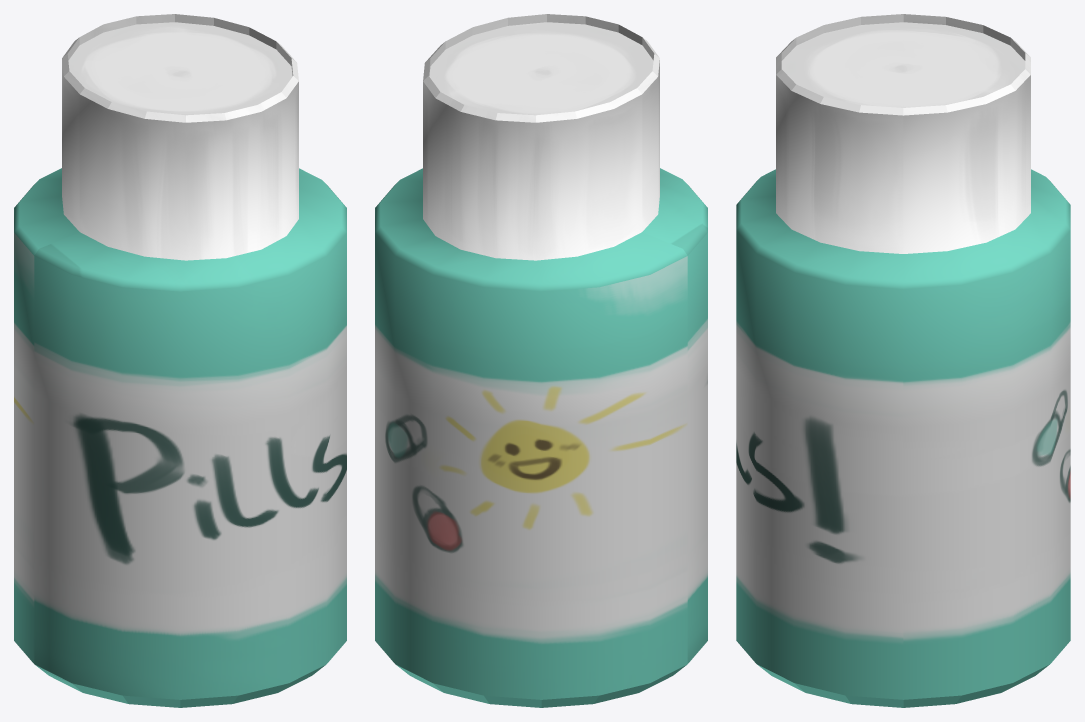
File: enemyPill.FBX
The picture shows the model from 3 angles, left to right: view 1: azimuth 30°, elevation 25°; view 2: azimuth 150°, elevation 25°; view 3: azimuth 270°, elevation 25°; orthographic projection.
Parts seen in each view (by area): view 1: Cylinder001; view 2: Cylinder001; view 3: Cylinder001.
Boxes of the visible parts, left/top/right/bottom form: Cylinder001: left=14, top=14, right=346, bottom=707; Cylinder001: left=375, top=14, right=707, bottom=707; Cylinder001: left=736, top=14, right=1070, bottom=707.
Size of the model in its own units: 60 by 113 by 59.09.
Materials: 1 (1 with a texture image).
